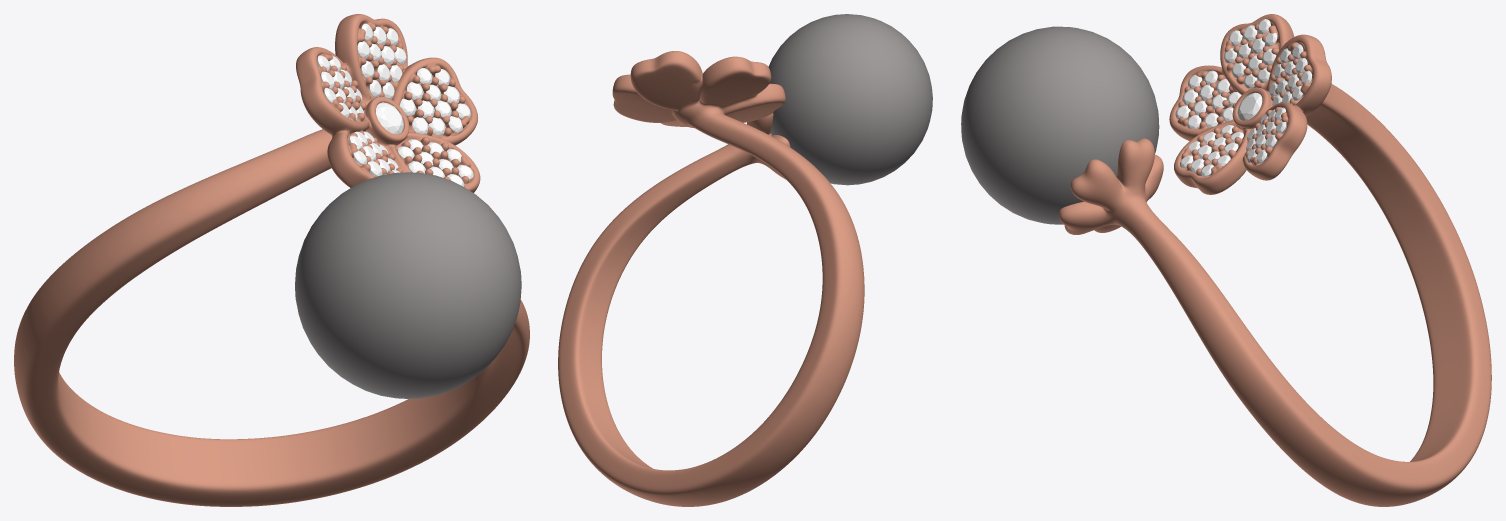
File: pearl flower.glb
3 renders of one model, left to right at view 1: azimuth 30°, elevation 25°; view 2: azimuth 150°, elevation 25°; view 3: azimuth 270°, elevation 25°, orthographic. The views are drawn at different scales.
Parts seen in each view (by area): view 1: uploads_files_1998594_Floral_Bypass_Ring_165mm_Retopo, GeoSphere001, Brillant_1; view 2: uploads_files_1998594_Floral_Bypass_Ring_165mm_Retopo, GeoSphere001; view 3: uploads_files_1998594_Floral_Bypass_Ring_165mm_Retopo, GeoSphere001.
Boxes of the visible parts, x1,y1,x2,y2 form: uploads_files_1998594_Floral_Bypass_Ring_165mm_Retopo: (14, 14, 529, 506); GeoSphere001: (295, 172, 521, 398); Brillant_1: (376, 102, 403, 134); uploads_files_1998594_Floral_Bypass_Ring_165mm_Retopo: (558, 51, 864, 506); GeoSphere001: (768, 14, 932, 185); uploads_files_1998594_Floral_Bypass_Ring_165mm_Retopo: (1058, 14, 1491, 506); GeoSphere001: (961, 26, 1159, 224).
Bounding box in the file's own units: 2.03 × 2.4 × 2.48.
